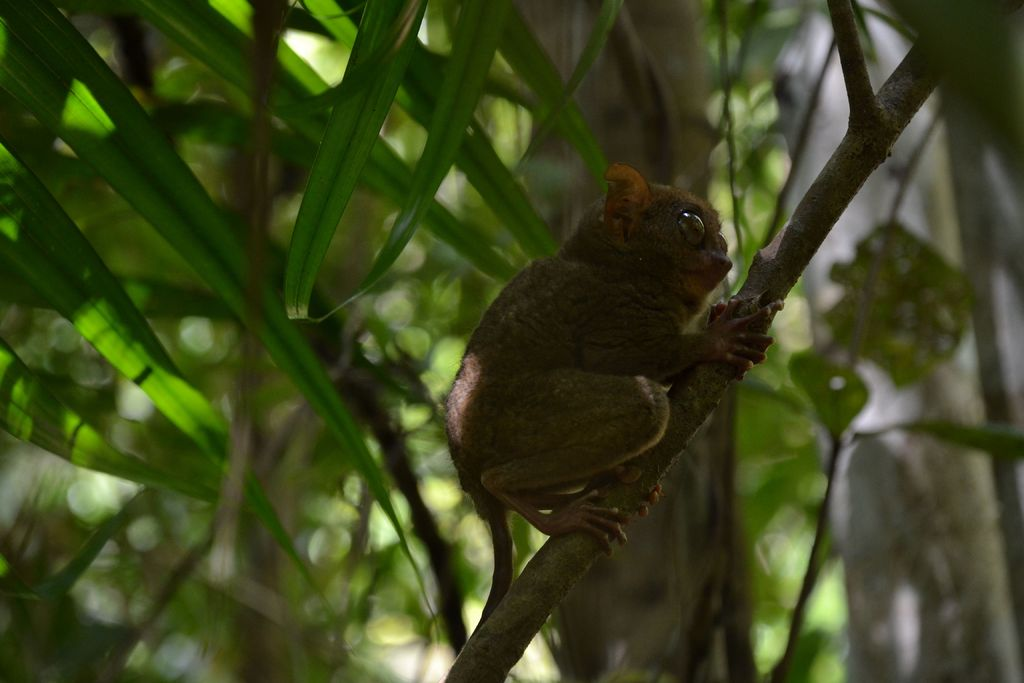Animal: (447, 167, 784, 623)
